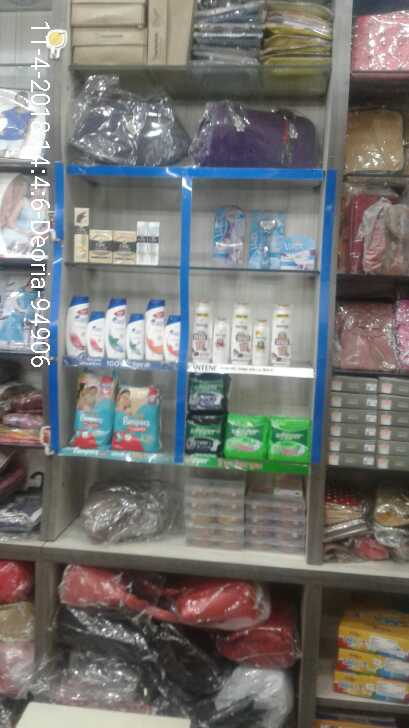venus: (249, 207, 283, 269), (211, 205, 245, 265), (285, 236, 314, 270)
